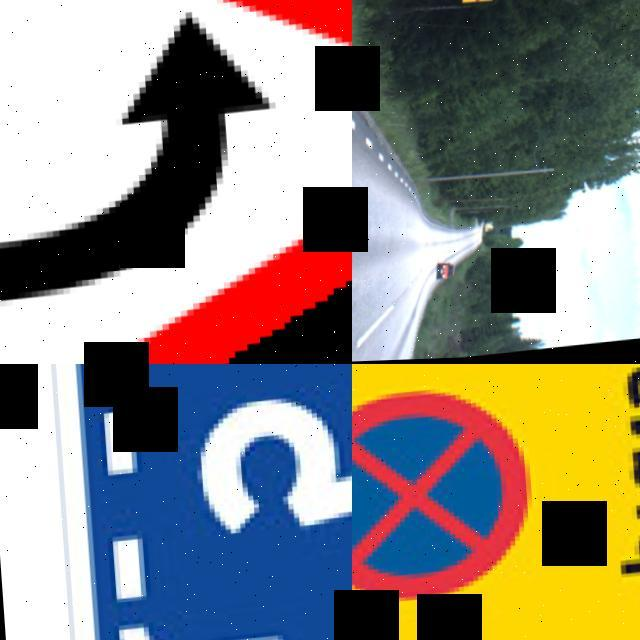172: (31, 364, 352, 640)
177: (352, 364, 640, 640)
Right curve: (0, 0, 352, 364)
